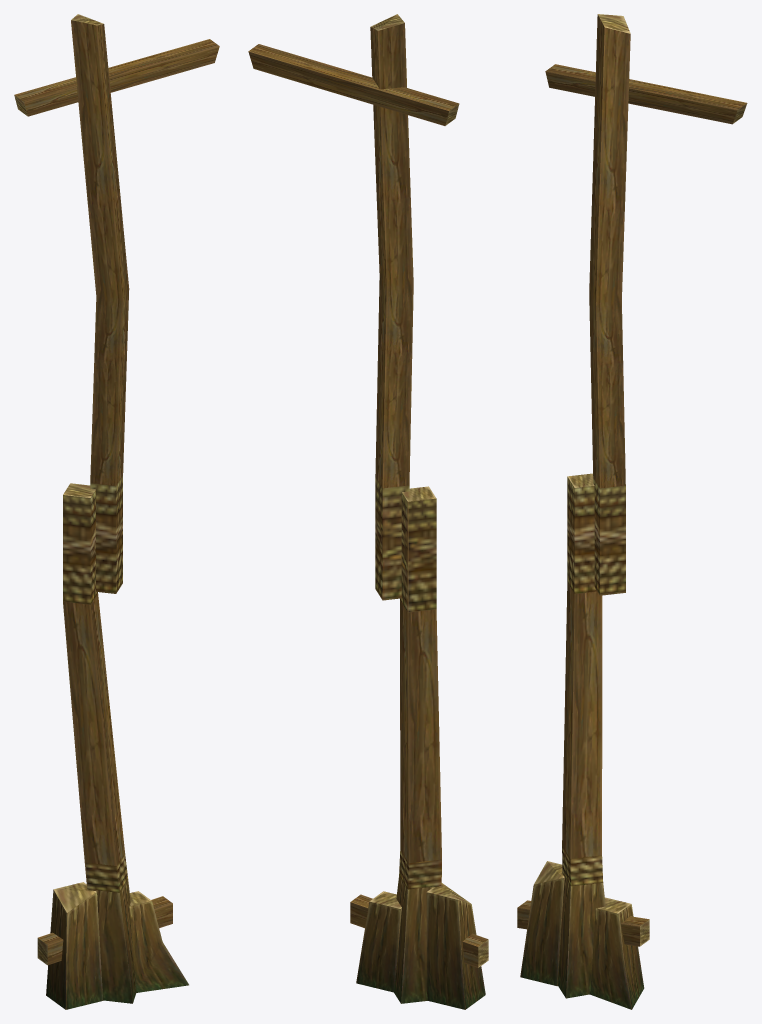
File: qi_gan_001.FBX
The picture shows the model from 3 angles, left to right: view 1: azimuth 30°, elevation 25°; view 2: azimuth 150°, elevation 25°; view 3: azimuth 330°, elevation 25°; orthographic projection. The views are drawn at different scales.
Parts seen in each view (by area): view 1: werwer; view 2: werwer; view 3: werwer.
Part boxes in pixels (<box>): werwer: <box>14,14,219,1009</box>; werwer: <box>248,14,488,1009</box>; werwer: <box>517,14,747,1009</box>.
Bounding box in the file's own units: 112 × 516 × 55.3.
